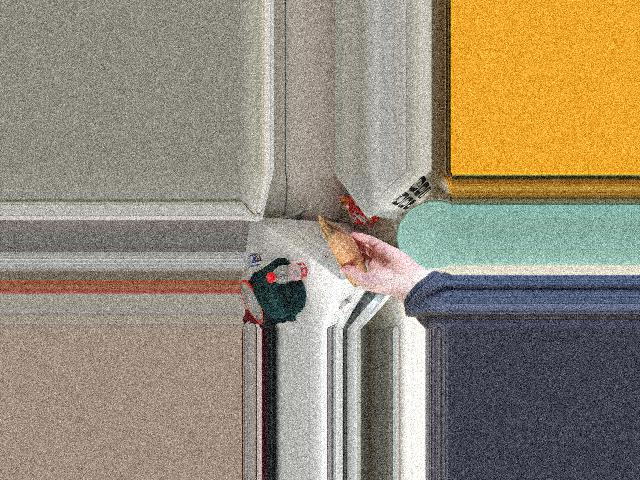sweet_potato: (327, 234, 372, 280)
